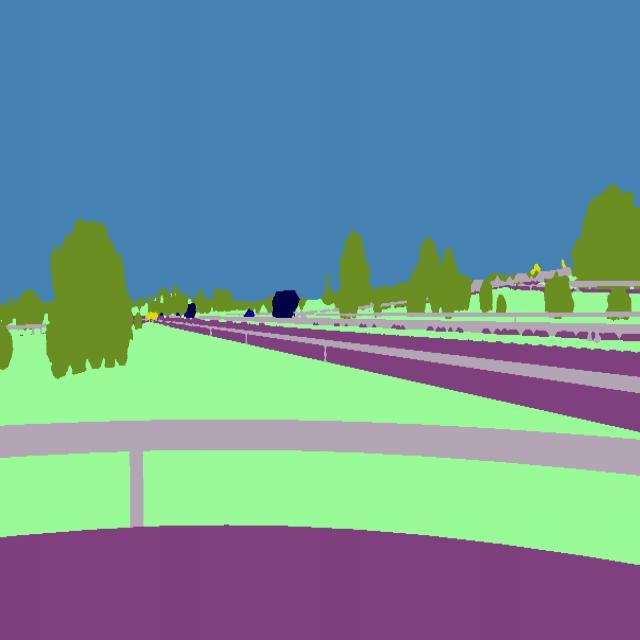safe: (183, 296, 200, 324), (242, 306, 258, 319)
